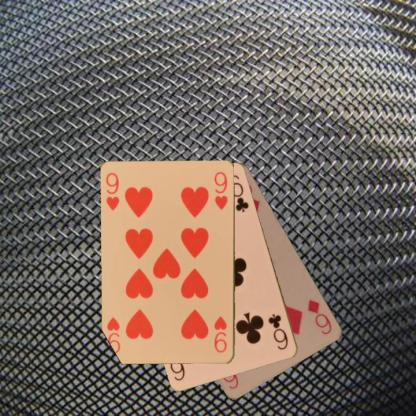6c: (266, 311, 290, 351)
6d: (305, 296, 333, 336)
9h: (103, 170, 121, 212), (212, 314, 228, 354)
